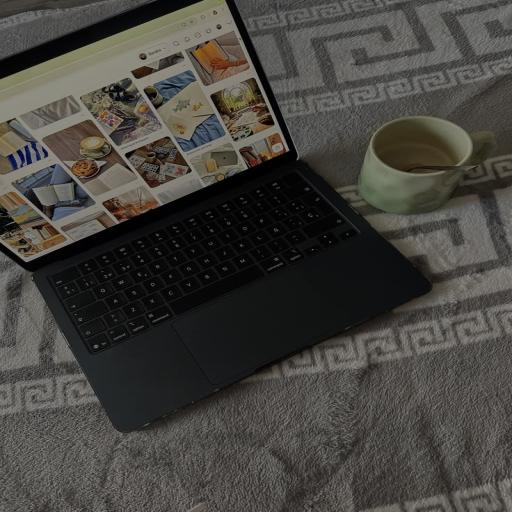corridor: (0, 0, 431, 431)
